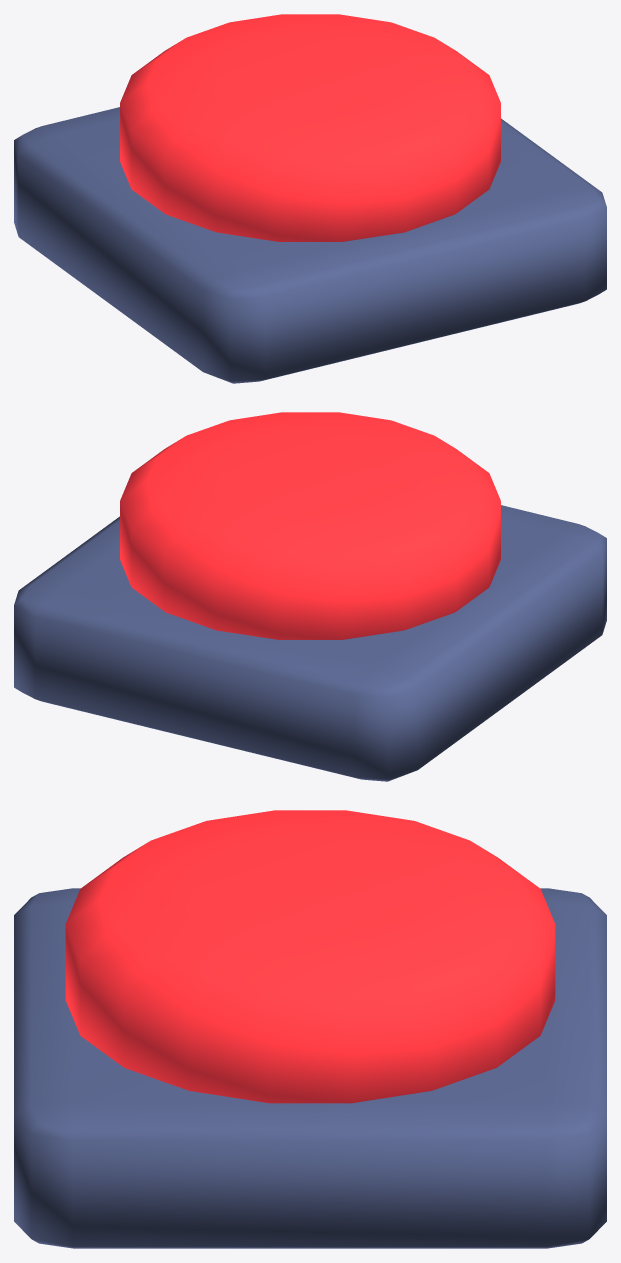
The model's file is boton destruir.fbx.
The picture shows the model from 3 angles, top to bottom: view 1: azimuth 30°, elevation 25°; view 2: azimuth 150°, elevation 25°; view 3: azimuth 270°, elevation 25°; orthographic projection. The views are drawn at different scales.
Parts seen in each view (by area): view 1: Cube, Cylinder; view 2: Cube, Cylinder; view 3: Cylinder, Cube.
Boxes of the visible parts, left/top/right/bottom form: Cube: left=14, top=107, right=606, bottom=383; Cylinder: left=120, top=14, right=500, bottom=241; Cube: left=14, top=505, right=606, bottom=781; Cylinder: left=120, top=412, right=500, bottom=639; Cylinder: left=65, top=810, right=555, bottom=1103; Cube: left=14, top=888, right=606, bottom=1248.
Size of the model in its own units: 200 by 92.45 by 200.
